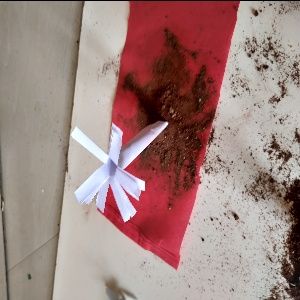weed: (49, 109, 190, 218)
